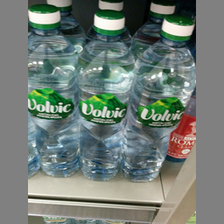water: (124, 15, 195, 183), (79, 10, 134, 181), (28, 5, 79, 176)
